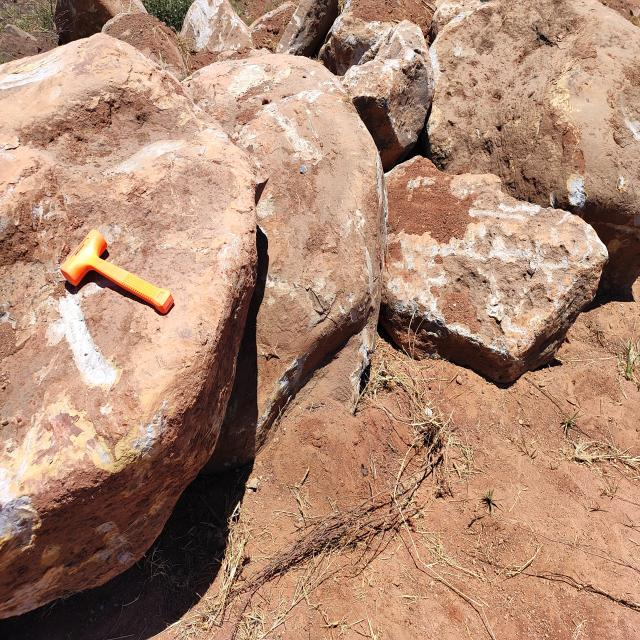Orange_hammer: (59, 228, 175, 316)
